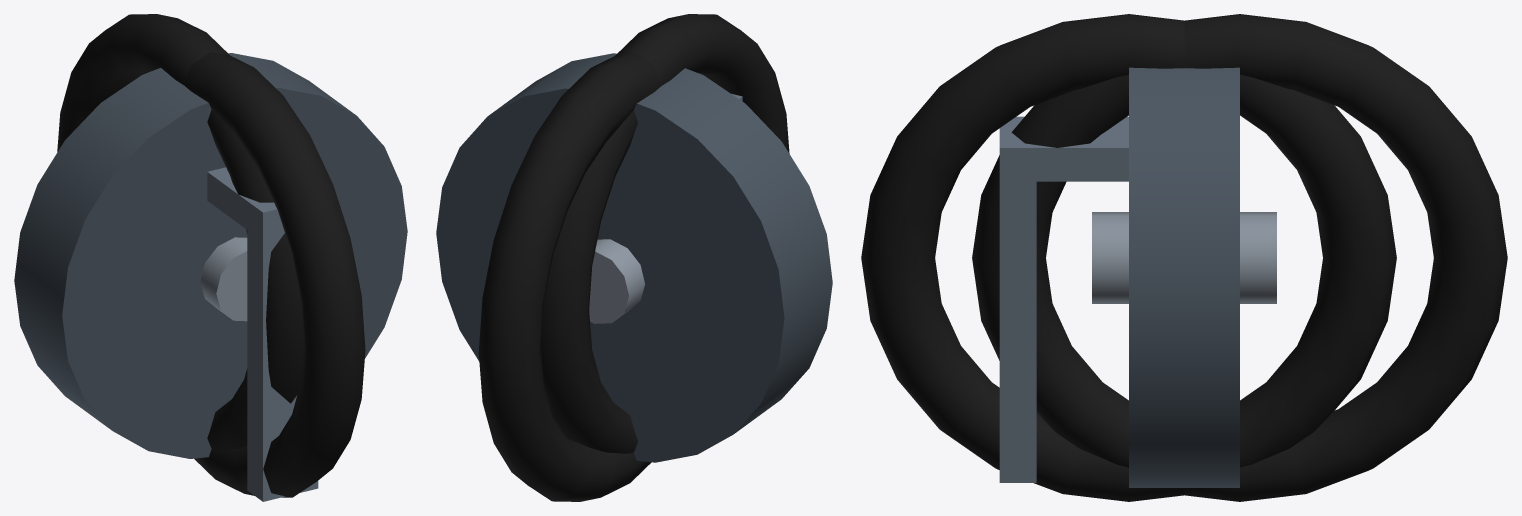
Rendered from rgv-part.glb.
3 renders of one model, left to right at view 1: azimuth 30°, elevation 25°; view 2: azimuth 150°, elevation 25°; view 3: azimuth 270°, elevation 25°, orthographic. The views are drawn at different scales.
Bounding box in the file's own units: 0.5 × 0.58 × 0.7.
